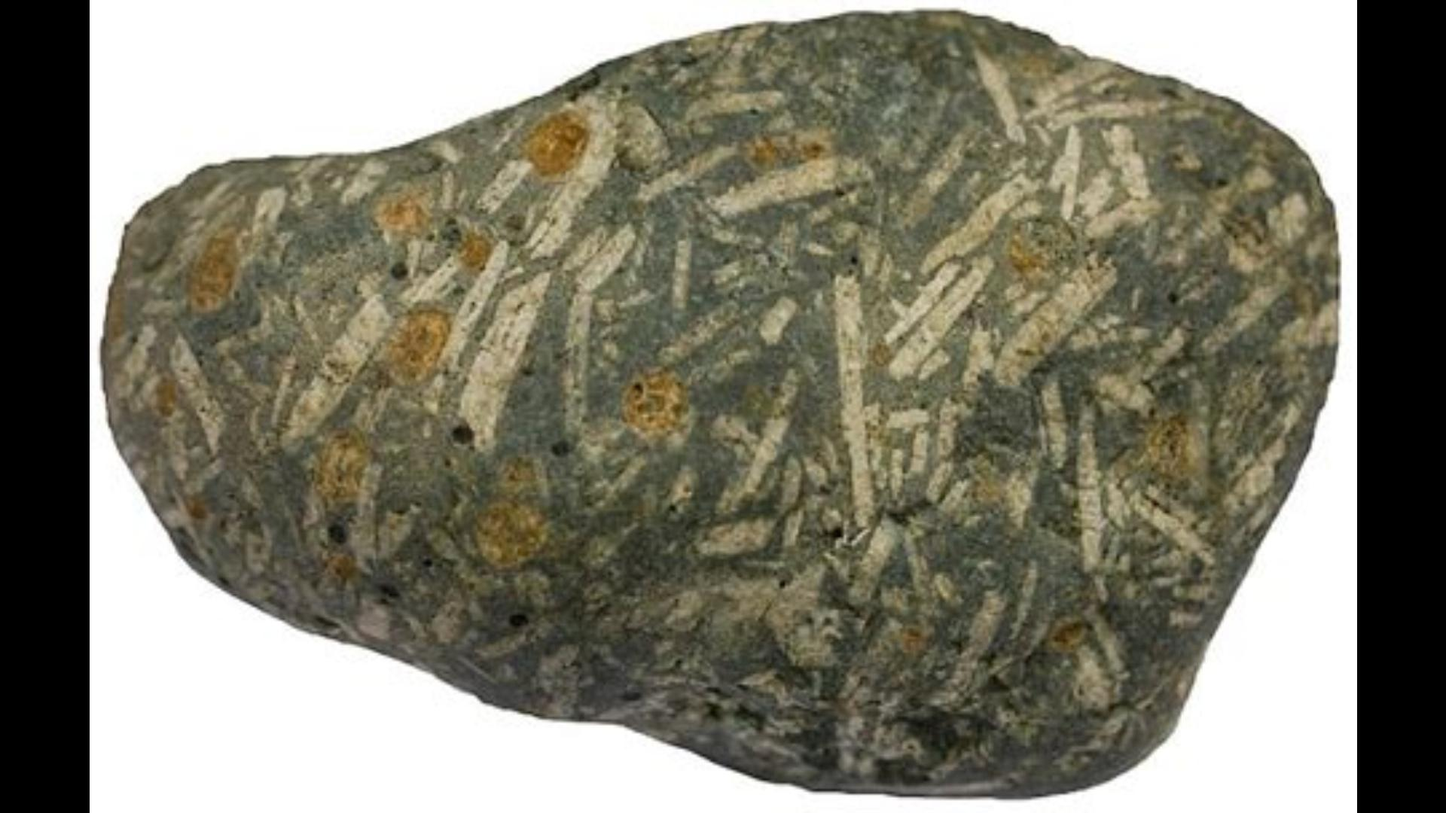rock: (102, 11, 1333, 792)
